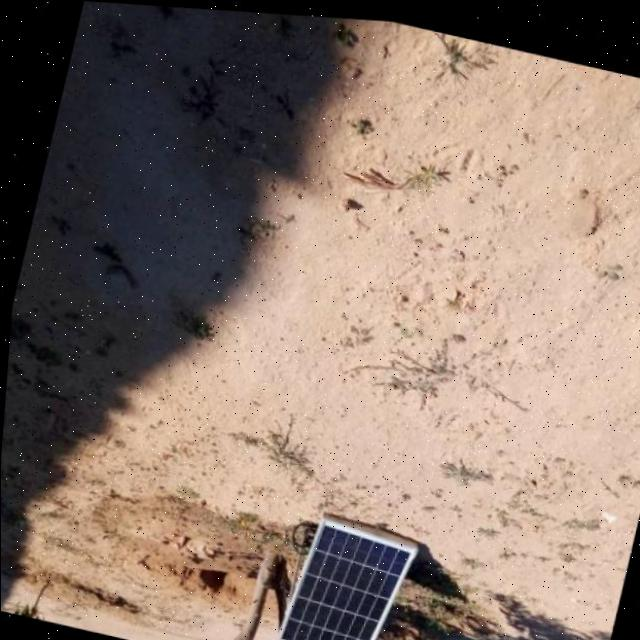Normal Solar Panel: (270, 508, 416, 640)
